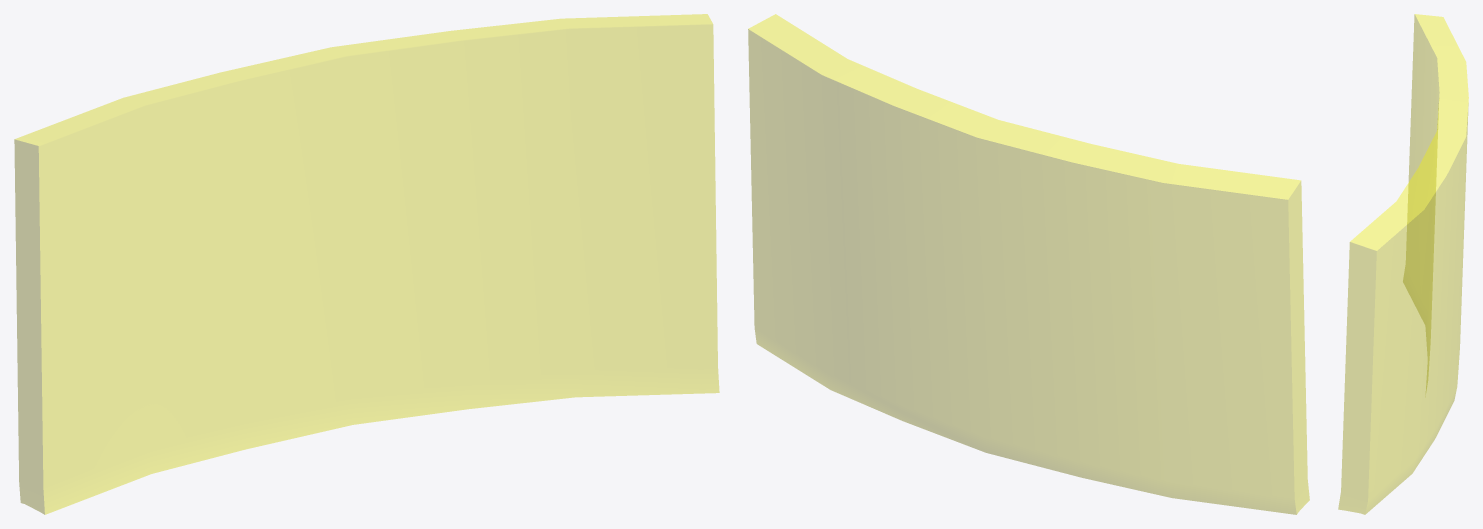
File: display_box_003.gltf
3 renders of one model, left to right at view 1: azimuth 30°, elevation 25°; view 2: azimuth 150°, elevation 25°; view 3: azimuth 270°, elevation 25°, orthographic. The views are drawn at different scales.
Visible parts, largest first — view 1: Model; view 2: Model; view 3: Model.
Boxes of the visible parts, <box> form: Model: <box>14,14,719,514</box>; Model: <box>748,14,1309,514</box>; Model: <box>1338,14,1468,514</box>.
Bounding box in the file's own units: 5.65 × 3.02 × 1.33.
